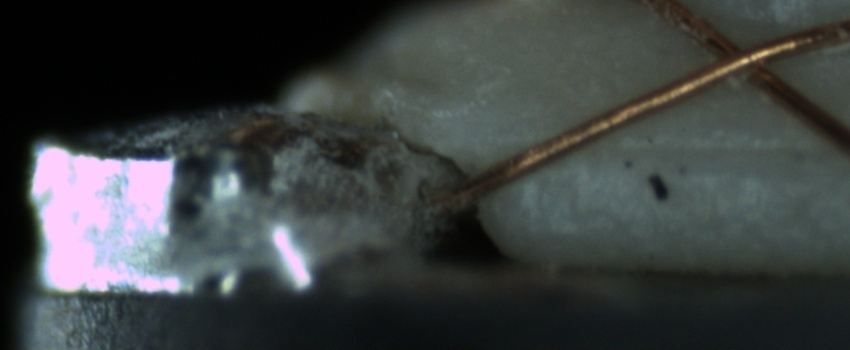CL: (689, 23, 797, 93)
DL: (566, 117, 842, 187)
